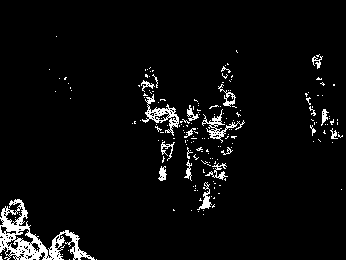person: (196, 104, 238, 212), (1, 195, 52, 260), (148, 97, 179, 184), (221, 88, 247, 171), (179, 100, 205, 182), (139, 66, 161, 126)
